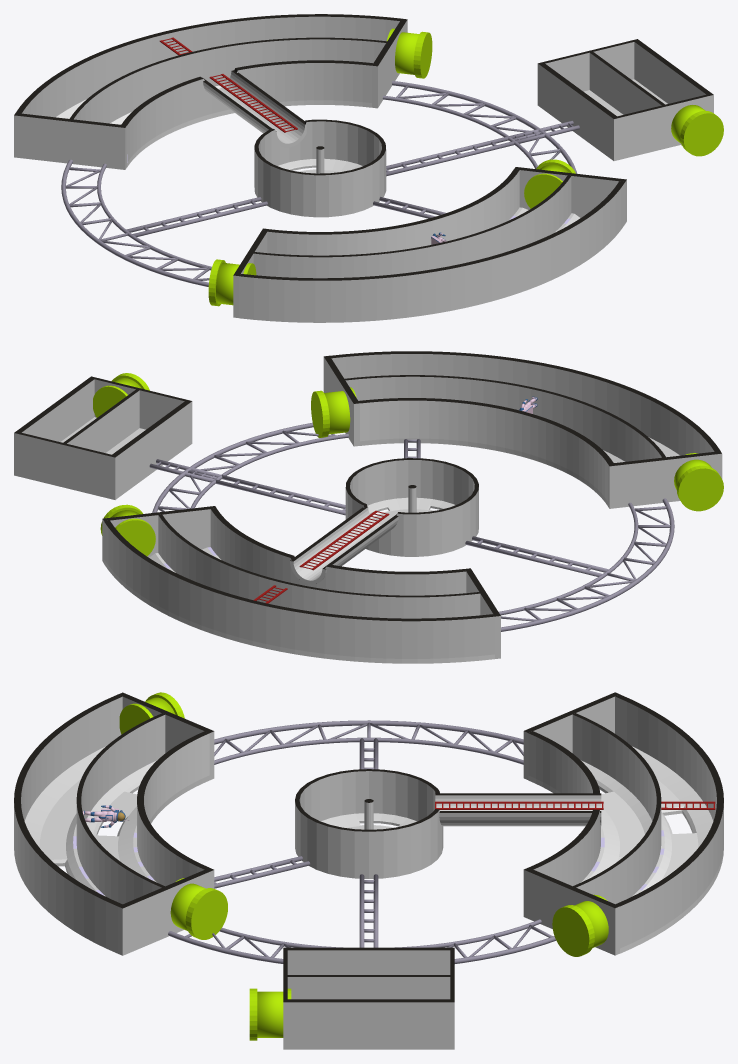
Rendered from Space_Station_Assets_2022-06-29.fbx.
3 renders of one model, top to bottom at view 1: azimuth 30°, elevation 25°; view 2: azimuth 150°, elevation 25°; view 3: azimuth 270°, elevation 25°, orthographic. The views are drawn at different scales.
Visible parts, largest first — view 1: StationRingNoHole001, StationRingHole01, ExtZone01, StationCenter01, RingStructure01.001, StationTransit01, RingStructure01, StationAirLock01, StationAirLock02, RadialGirder01bis, RadialGirder01, StationAirLock02bis (+4 smaller); view 2: StationRingHole01, StationRingNoHole001, ExtZone01, StationCenter01, RingStructure01.001, StationTransit01, RingStructure01, StationAirLock02bis, StationAirLock02bis.001, RadialGirder01bis, StationAirLock02, RadialGirder01 (+3 smaller); view 3: StationRingNoHole001, StationRingHole01, ExtZone01, StationCenter01, StationTransit01, RingStructure01.001, RingStructure01, StationAirLock02bis.001, StationAirLock02, StationAirLock01, StationAirLock02bis, RadialGirder01 (+2 smaller).
Boxes of the visible parts, x1,y1,x2,y2 form: StationRingNoHole001: [233, 167, 626, 322]; StationRingHole01: [14, 14, 407, 169]; ExtZone01: [537, 39, 713, 160]; StationCenter01: [254, 119, 386, 217]; RingStructure01.001: [61, 159, 211, 286]; StationTransit01: [203, 70, 306, 147]; RingStructure01: [382, 81, 577, 173]; StationAirLock01: [671, 105, 723, 156]; StationAirLock02: [387, 28, 432, 78]; RadialGirder01bis: [126, 197, 267, 236]; RadialGirder01: [386, 136, 514, 176]; StationAirLock02bis: [208, 259, 256, 306]; StationRingHole01: [102, 506, 500, 663]; StationRingNoHole001: [323, 351, 722, 508]; ExtZone01: [14, 376, 192, 499]; StationCenter01: [345, 458, 478, 556]; RingStructure01.001: [499, 498, 674, 631]; StationTransit01: [290, 507, 398, 584]; RingStructure01: [152, 422, 348, 512]; StationAirLock02bis: [674, 453, 723, 511]; StationAirLock02bis.001: [311, 387, 356, 437]; RadialGirder01bis: [465, 536, 608, 576]; StationAirLock02: [100, 504, 155, 556]; RadialGirder01: [215, 475, 345, 515]; StationRingNoHole001: [14, 692, 214, 955]; StationRingHole01: [523, 692, 723, 955]; ExtZone01: [283, 947, 454, 1049]; StationCenter01: [295, 769, 443, 878]; StationTransit01: [435, 793, 601, 826]; RingStructure01.001: [214, 720, 523, 764]; RingStructure01: [168, 919, 556, 963]; StationAirLock02bis.001: [170, 878, 227, 939]; StationAirLock02: [552, 894, 608, 956]; StationAirLock01: [249, 988, 291, 1040]; StationAirLock02bis: [119, 692, 184, 734]; RadialGirder01: [359, 874, 378, 947].
Size of the model in its own units: 3247 by 269 by 3061.
